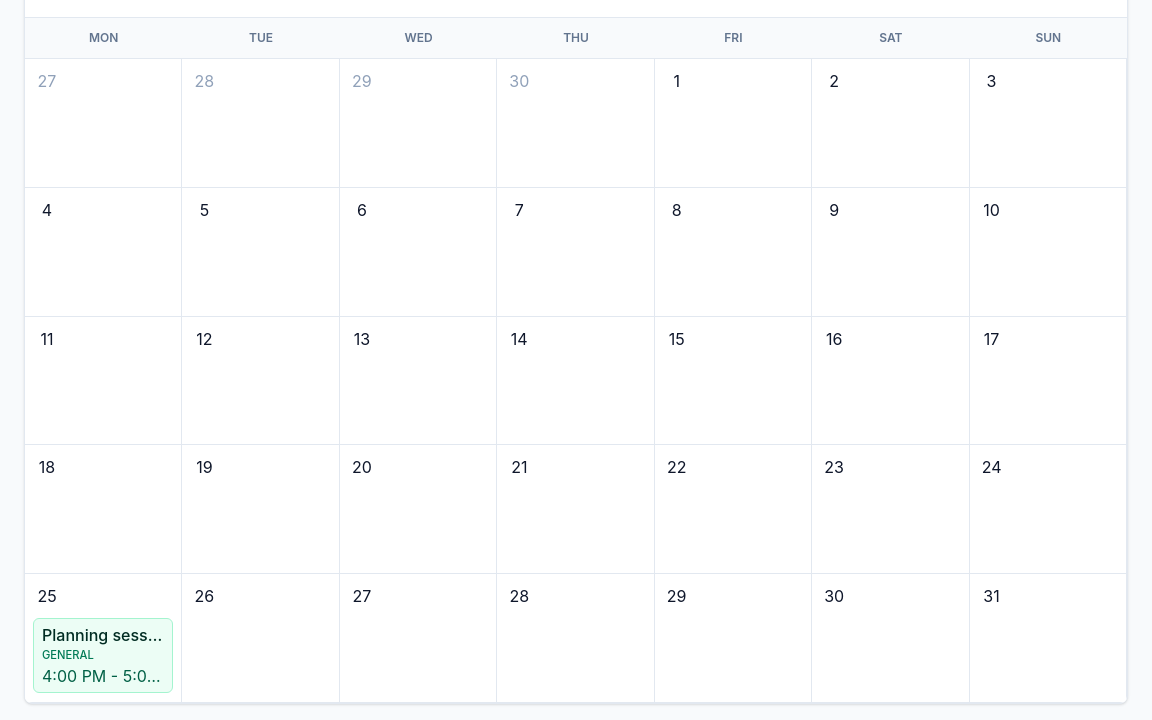
Scenario: Event CRUD - integration › clicking an event card opens event details in edit mode
(page scrolled)
Click the button with aria-label "Edit event Planning session".
click(103, 656)  # box [33,618,173,693]
(page scrolled)
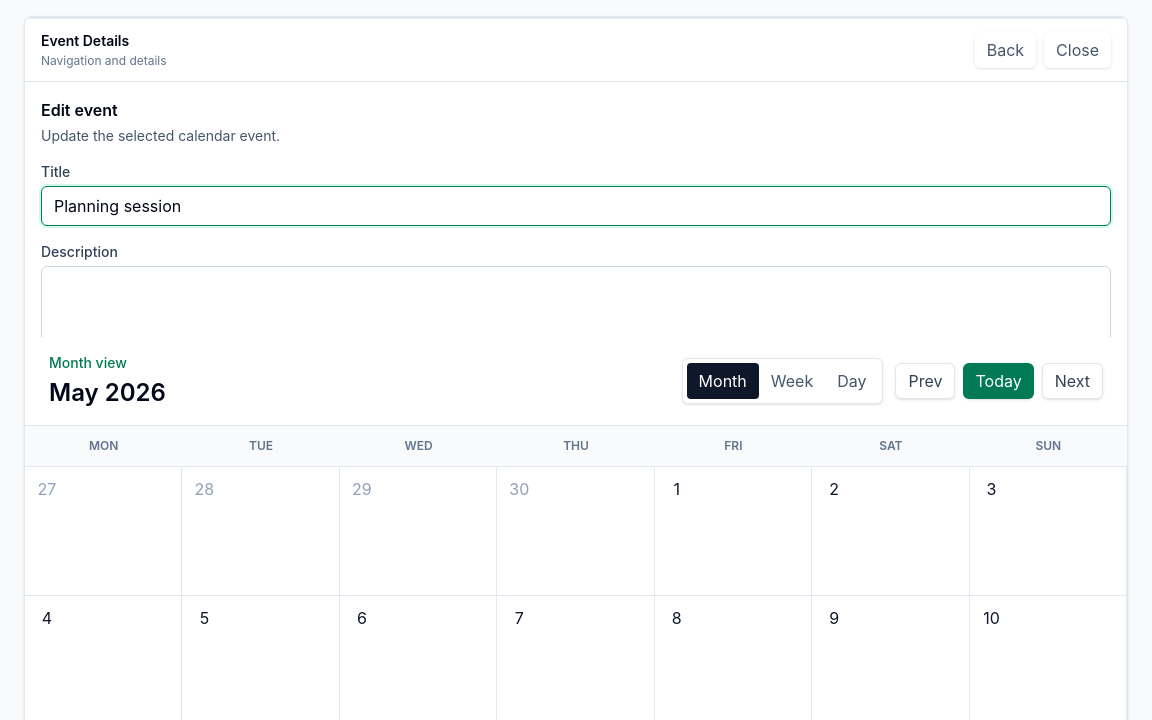
Result: the heading "Edit event" is shown at [41,100,118,120]
Result: the field labelled "Title" holds "Planning session" at [41,186,1111,226]
